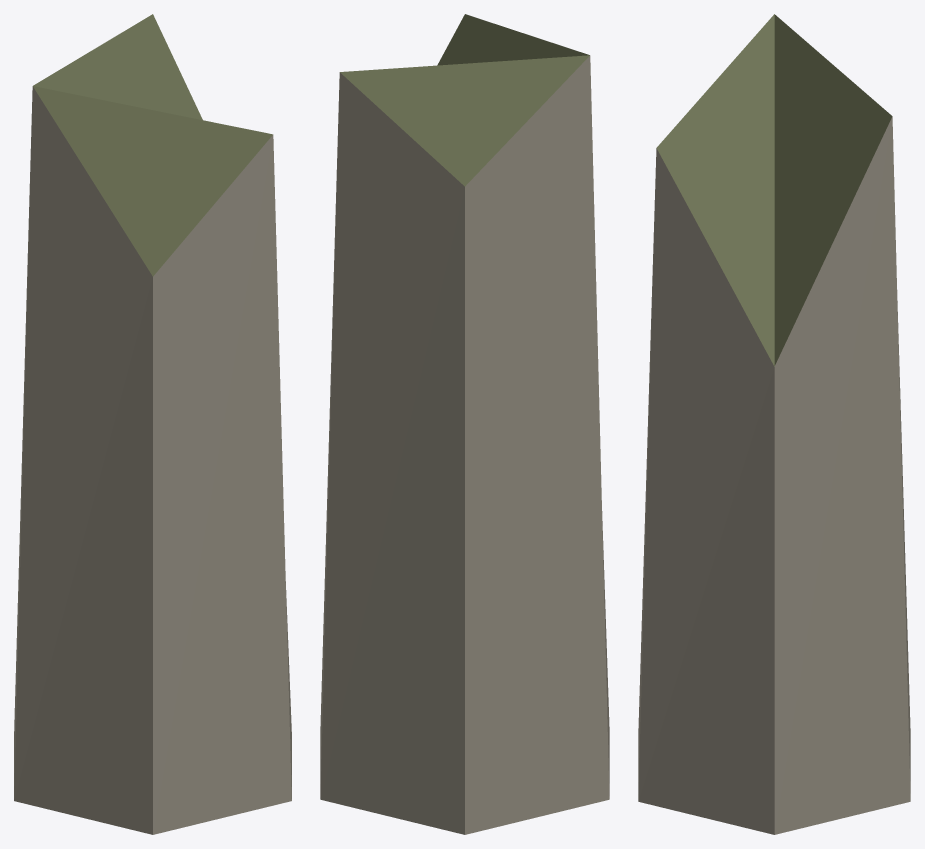
File: pillar_broken.obj
The picture shows the model from 3 angles, left to right: view 1: azimuth 30°, elevation 25°; view 2: azimuth 150°, elevation 25°; view 3: azimuth 270°, elevation 25°; orthographic projection. The views are drawn at different scales.
Parts seen in each view (by area): view 1: pillar_broken; view 2: pillar_broken; view 3: pillar_broken.
Boxes of the visible parts, x1,y1,x2,y2 form: pillar_broken: (14, 14, 291, 834); pillar_broken: (320, 14, 609, 834); pillar_broken: (638, 14, 910, 834).
Bounding box in the file's own units: 1.8 × 4.4 × 1.56.
